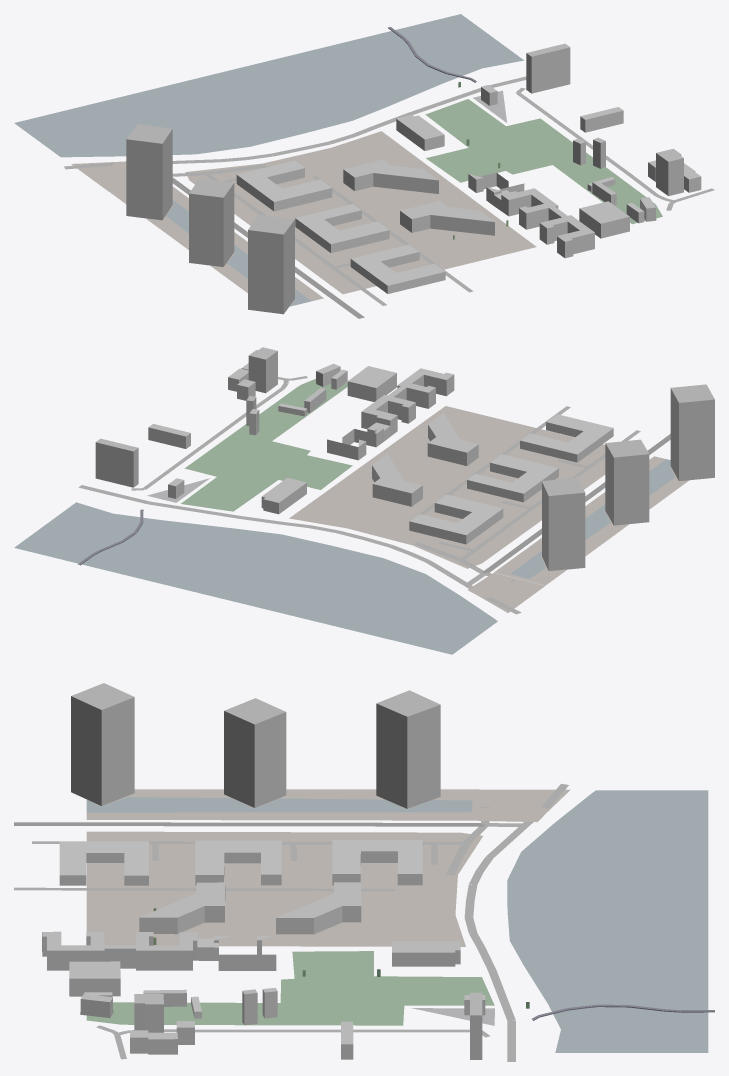
3 renders of one model, top to bottom at view 1: azimuth 30°, elevation 25°; view 2: azimuth 150°, elevation 25°; view 3: azimuth 270°, elevation 25°, orthographic. The views are drawn at different scales.
Size of the model in its own units: 535 by 87.58 by 564.
